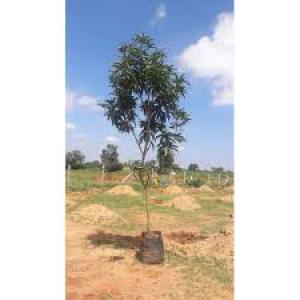Tree: (99, 28, 193, 263)
